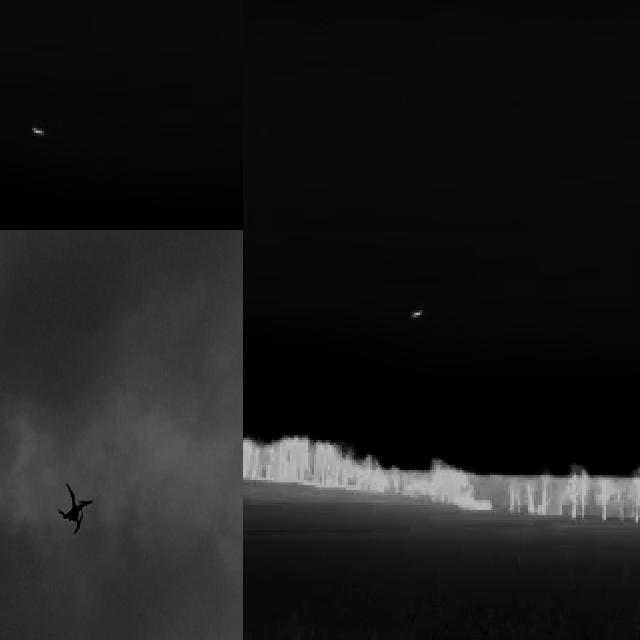1: (20, 118, 56, 153), (400, 301, 434, 334)
drone: (53, 481, 94, 532)
